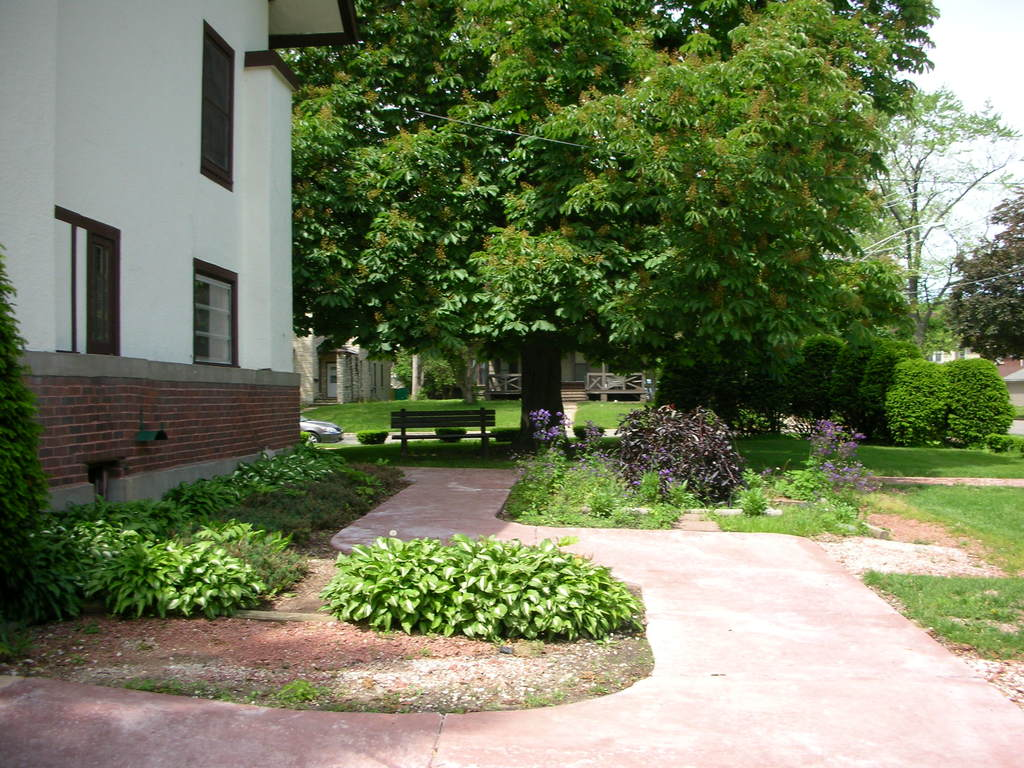Tree: (231, 0, 1003, 494)
